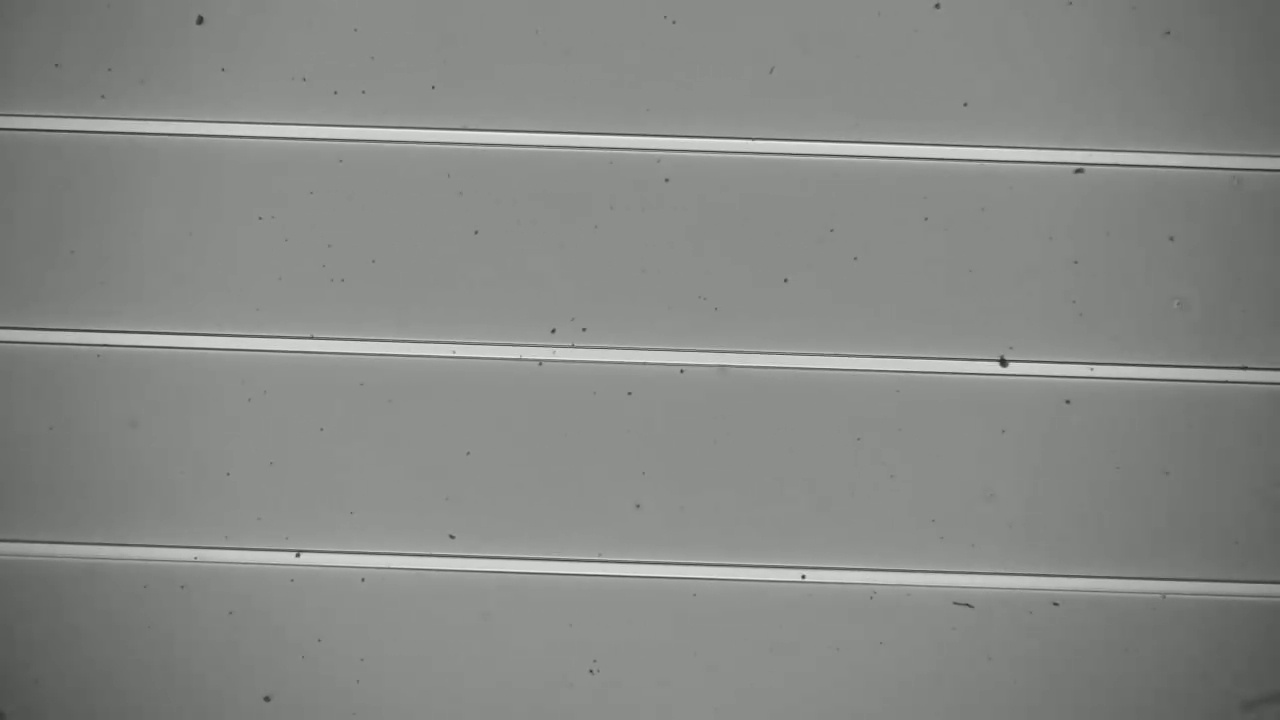stains_enbedded: (990, 351, 1021, 380)
